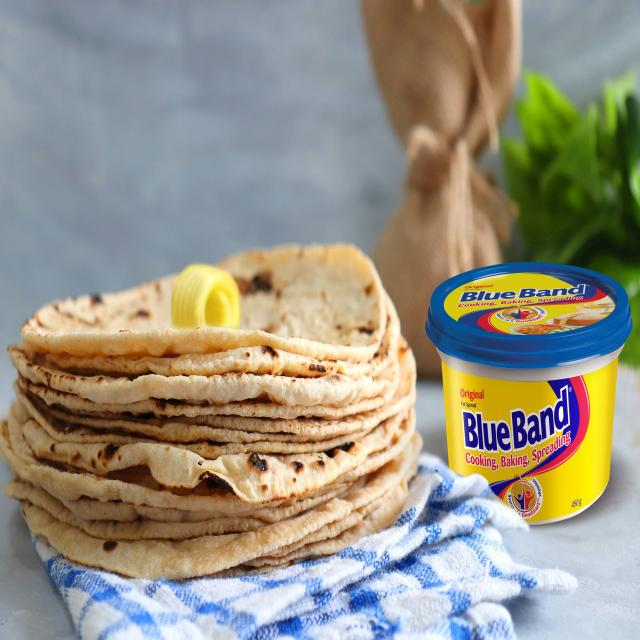butter: (422, 245, 636, 533)
